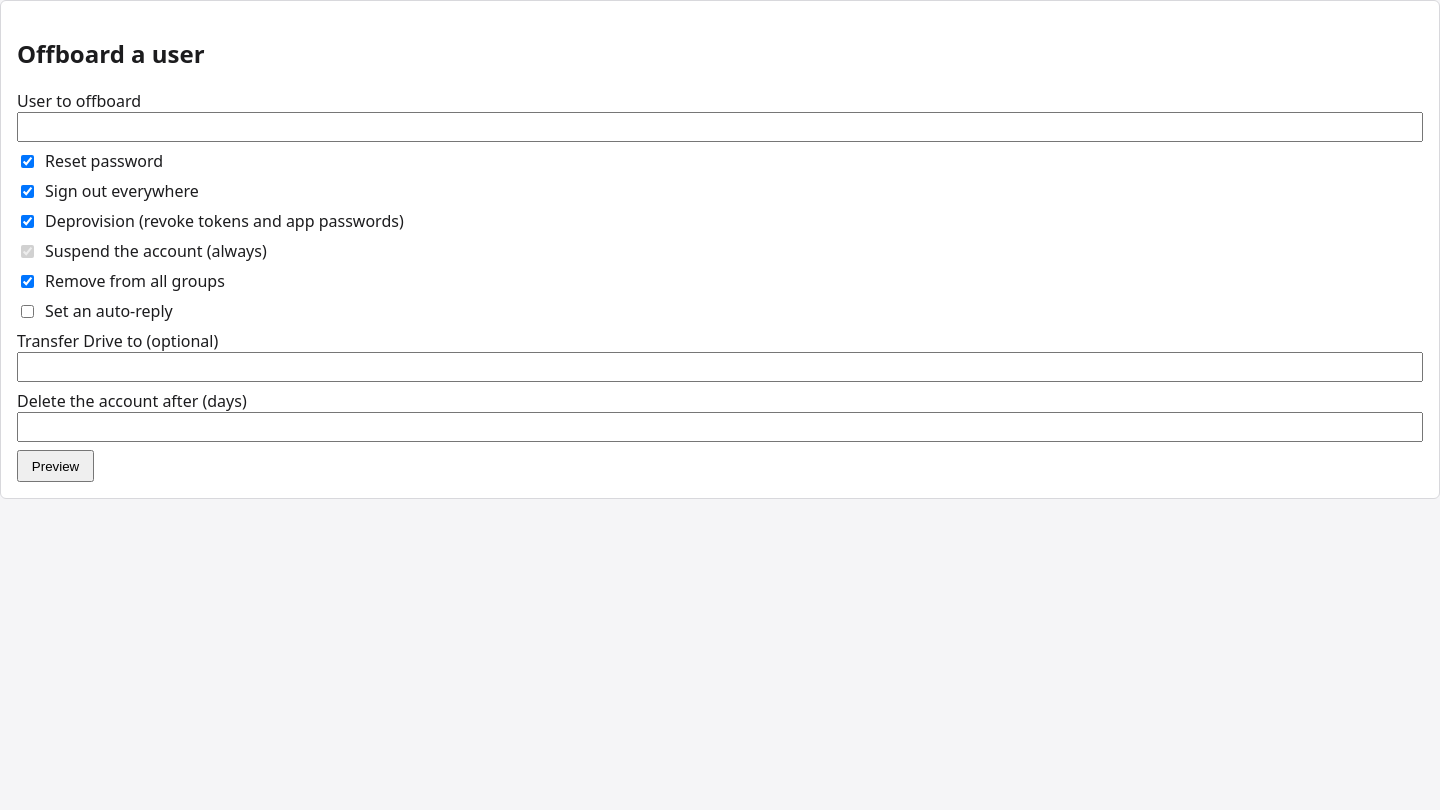
Test: a server error is shown and confirm can be tried again
Type "a@b.com" into the field labelled "User to offboard" at [720, 127], box [17,112,1423,142]
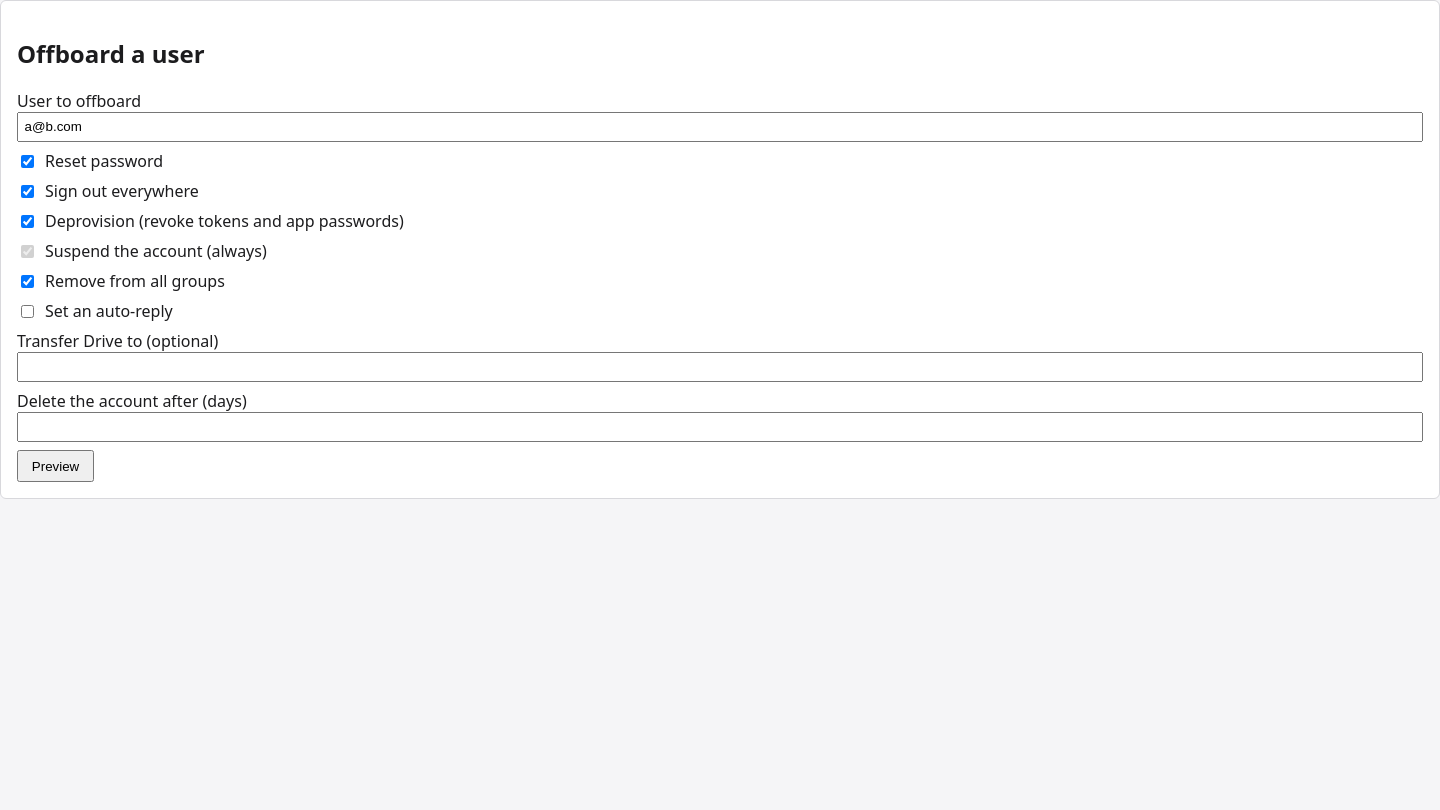
Click the button "Preview" at [56, 466], box [17,450,94,482]
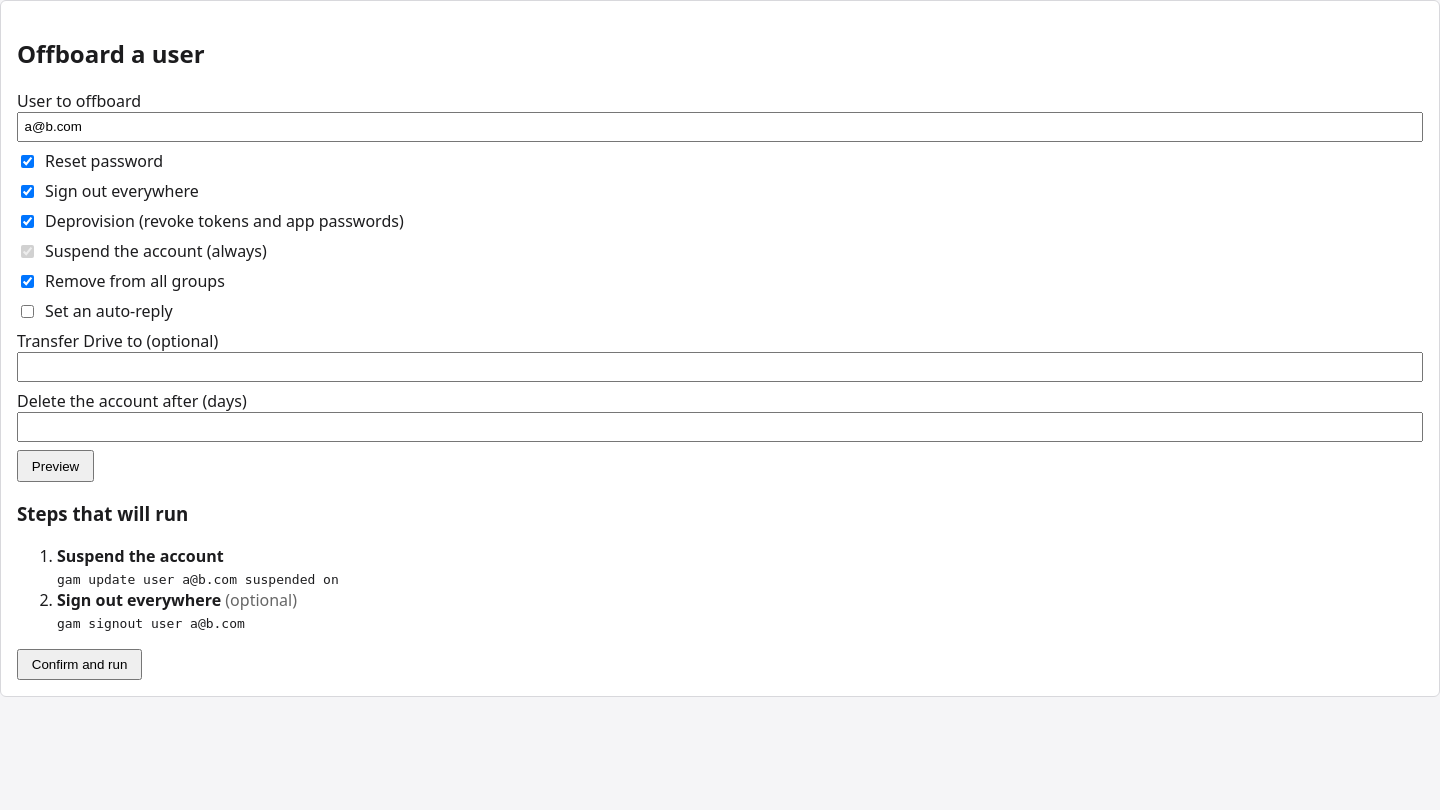
Click the button "Confirm and run" at [80, 664], box [17,649,142,680]
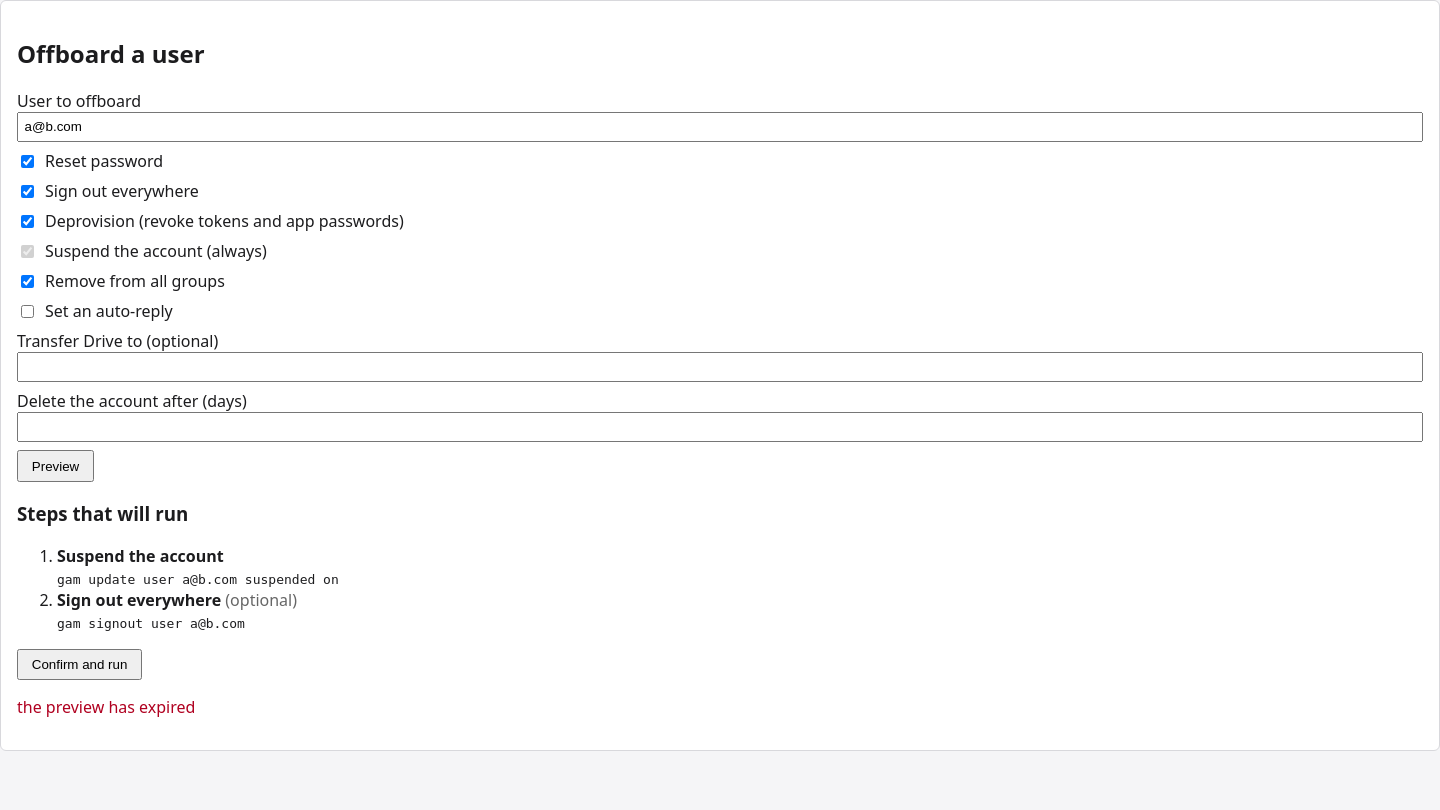
Check: the button "Confirm and run" is enabled, box [17,649,142,680]
Check: the text "the preview has expired" is shown, box [17,696,195,718]
